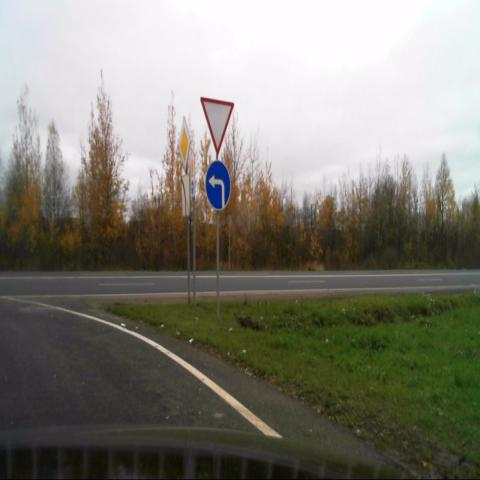4_1_3: (205, 160, 230, 211)
